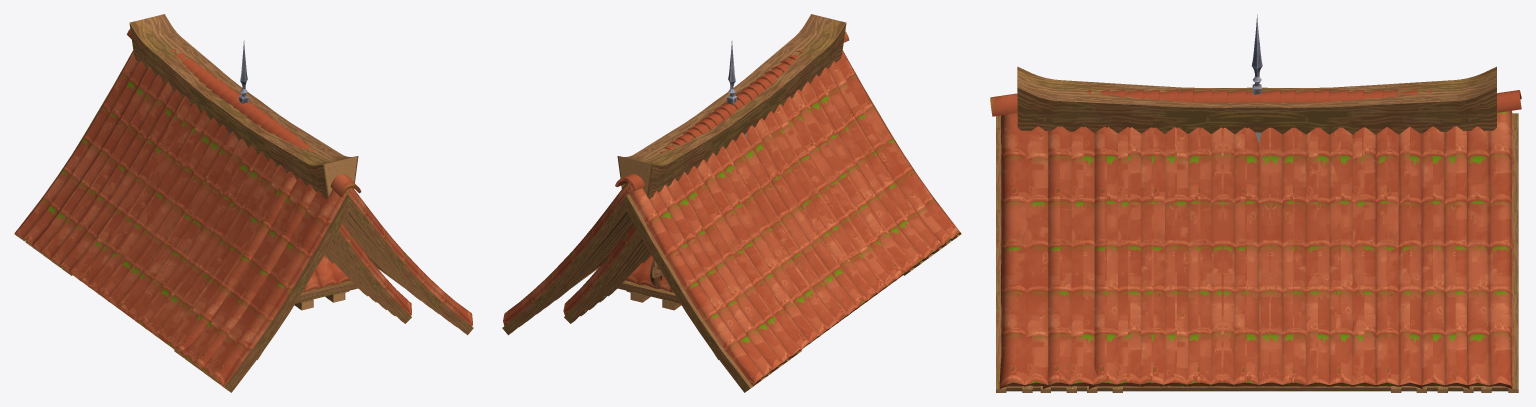
File: village.glb
3 renders of one model, left to right at view 1: azimuth 30°, elevation 25°; view 2: azimuth 150°, elevation 25°; view 3: azimuth 270°, elevation 25°, orthographic. The views are drawn at different scales.
Parts seen in each view (by area): view 1: Roof_RoundTiles_6x10, Roof_RoundTiles_6x6, Roof_RoundTiles_6x8, Roof_Log, Roof_RoundTiles_4x8, Roof_Tower_RoundTiles, Roof_RoundTiles_4x6; view 2: Roof_RoundTiles_6x10, Roof_RoundTiles_6x8, Roof_Log, Roof_RoundTiles_6x6, Roof_RoundTiles_4x8, Roof_Tower_RoundTiles, Roof_RoundTiles_4x6; view 3: Roof_RoundTiles_6x10, Roof_RoundTiles_6x8, Roof_RoundTiles_6x6, Roof_Log, Roof_Tower_RoundTiles.
Part boxes in pixels (<box>): Roof_RoundTiles_6x10: <box>14,29,473,392</box>; Roof_RoundTiles_6x6: <box>51,49,430,364</box>; Roof_RoundTiles_6x8: <box>32,62,449,377</box>; Roof_Log: <box>129,14,358,198</box>; Roof_RoundTiles_4x8: <box>257,223,411,359</box>; Roof_Tower_RoundTiles: <box>227,40,358,310</box>; Roof_RoundTiles_4x6: <box>327,244,386,309</box>; Roof_RoundTiles_6x10: <box>502,31,961,392</box>; Roof_RoundTiles_6x8: <box>526,50,943,377</box>; Roof_Log: <box>617,14,846,199</box>; Roof_RoundTiles_6x6: <box>545,59,924,364</box>; Roof_RoundTiles_4x8: <box>563,223,718,359</box>; Roof_Tower_RoundTiles: <box>617,40,747,310</box>; Roof_RoundTiles_4x6: <box>589,244,648,309</box>; Roof_RoundTiles_6x10: <box>990,90,1521,392</box>; Roof_RoundTiles_6x8: <box>1040,90,1473,392</box>; Roof_RoundTiles_6x6: <box>1087,90,1431,392</box>; Roof_Log: <box>1017,66,1496,134</box>; Roof_Tower_RoundTiles: <box>1251,14,1262,142</box>.
Bounding box in the file's own units: 8.25 × 8.91 × 11.85.
Materials: 9 (8 with a texture image).
